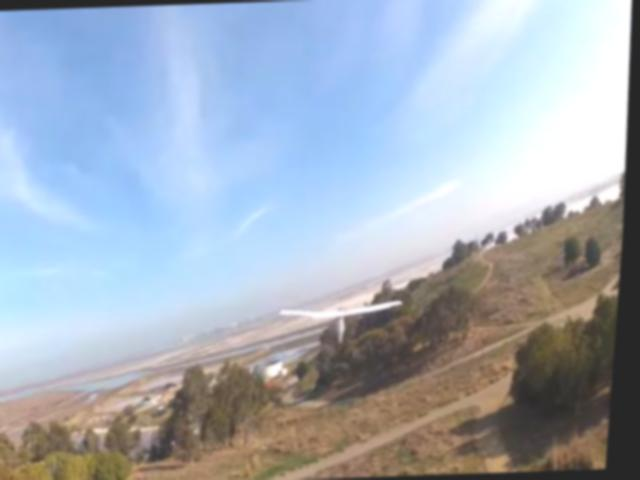uav: (277, 289, 418, 354)
